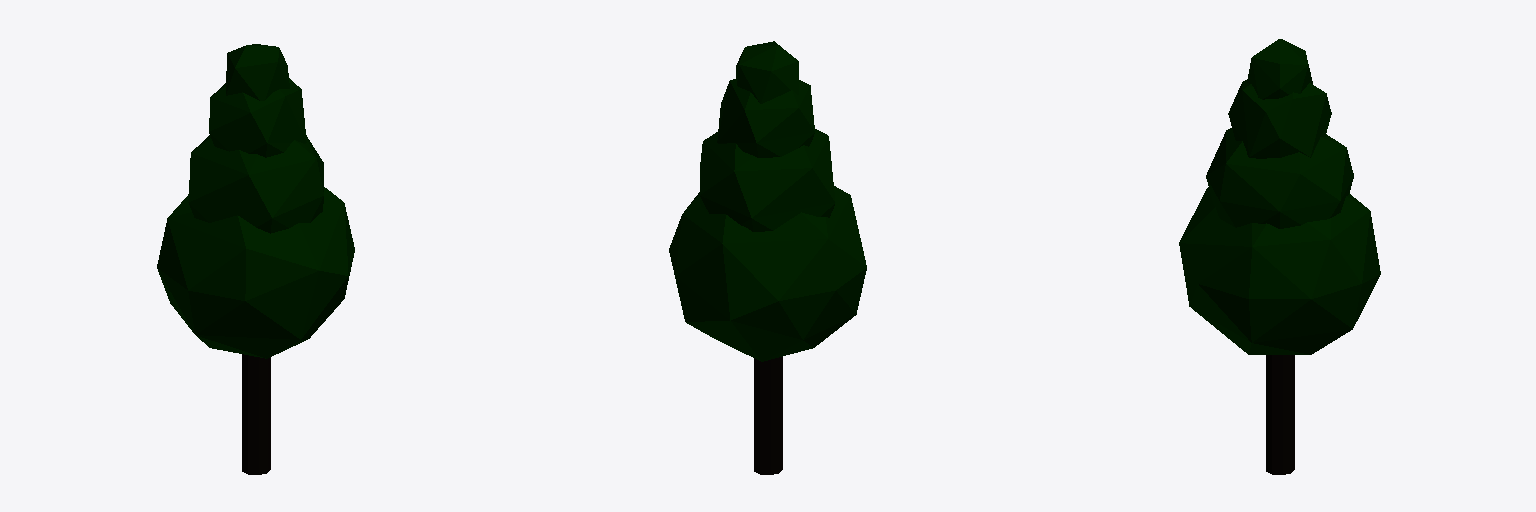
Rendered from Simple_Tree_7.obj.
3 views of the same model, side by side, from view 1: azimuth 30°, elevation 25°; view 2: azimuth 150°, elevation 25°; view 3: azimuth 270°, elevation 25° (orthographic).
Visible parts, largest first — view 1: Simple_Tree_7_Cylinder.007; view 2: Simple_Tree_7_Cylinder.007; view 3: Simple_Tree_7_Cylinder.007.
Boxes of the visible parts, box(x1,y1,x2,y2) form: Simple_Tree_7_Cylinder.007: box(157, 44, 354, 474); Simple_Tree_7_Cylinder.007: box(669, 41, 866, 474); Simple_Tree_7_Cylinder.007: box(1179, 39, 1380, 474).
Size of the model in its own units: 3.07 by 7.47 by 3.21.